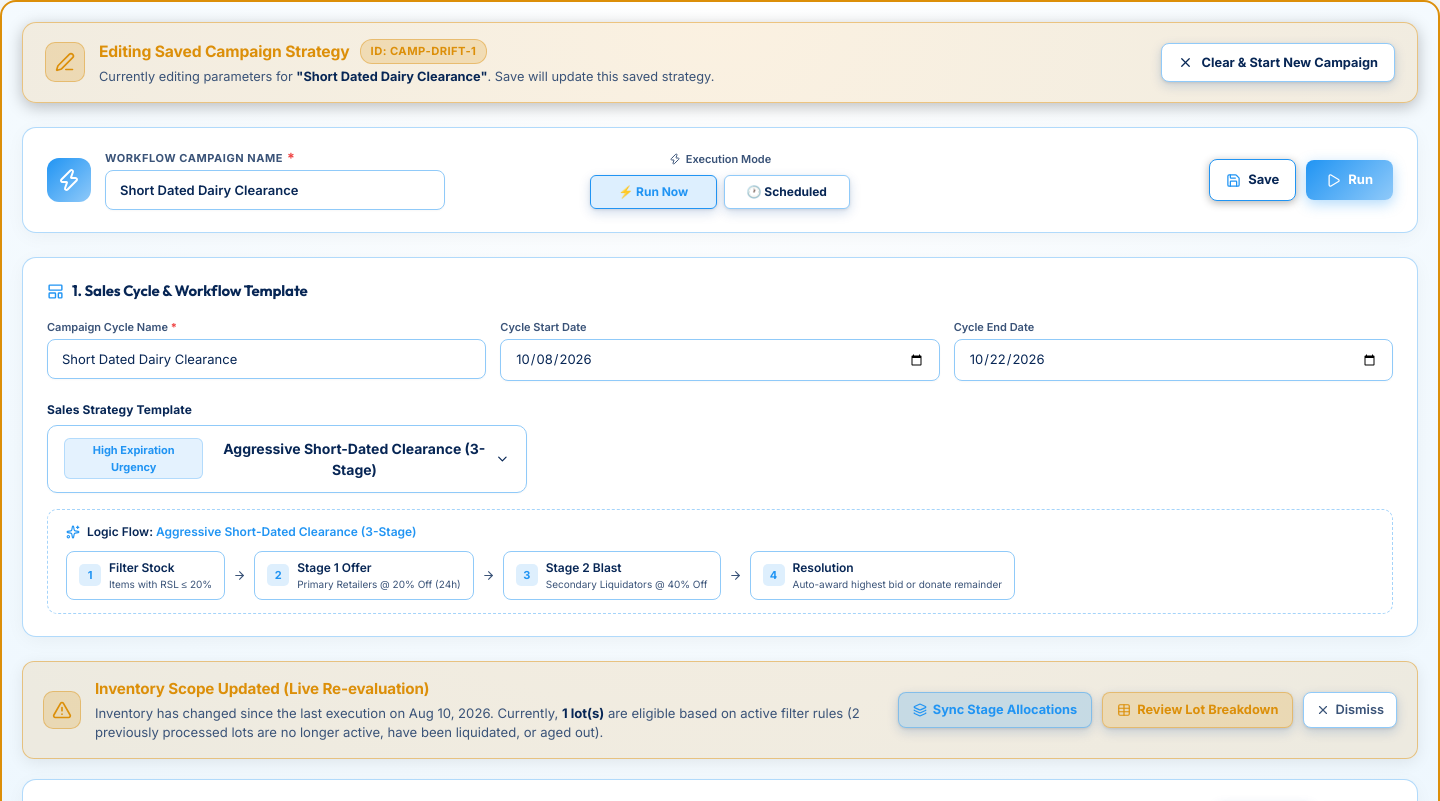
it: Issue 0103 — Slice 1: Edit-Mode Inventory Drift Detection & Alert Banner › dismisses the drift banner when [Dismiss] button is clicked
This screenshot has width=1440, height=801.
Expected: the element with test id "inventory-drift-banner" is shown, x1=22 y1=661 x2=1418 y2=759
Click the button with test id "drift-dismiss-banner-btn". click: coordinates (1350, 710)
box: x1=1303 y1=692 x2=1397 y2=728
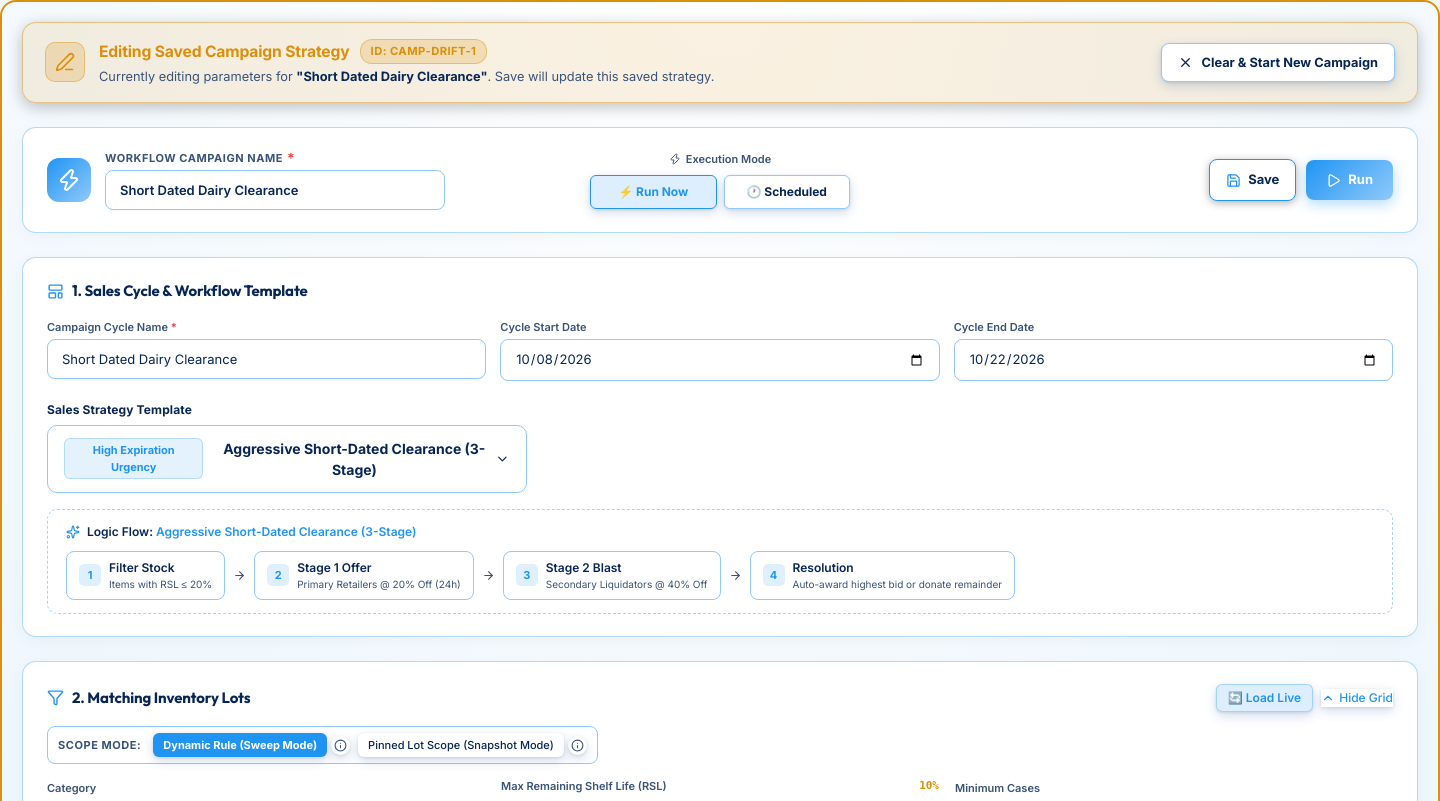
Now the element with test id "inventory-drift-banner" is gone
